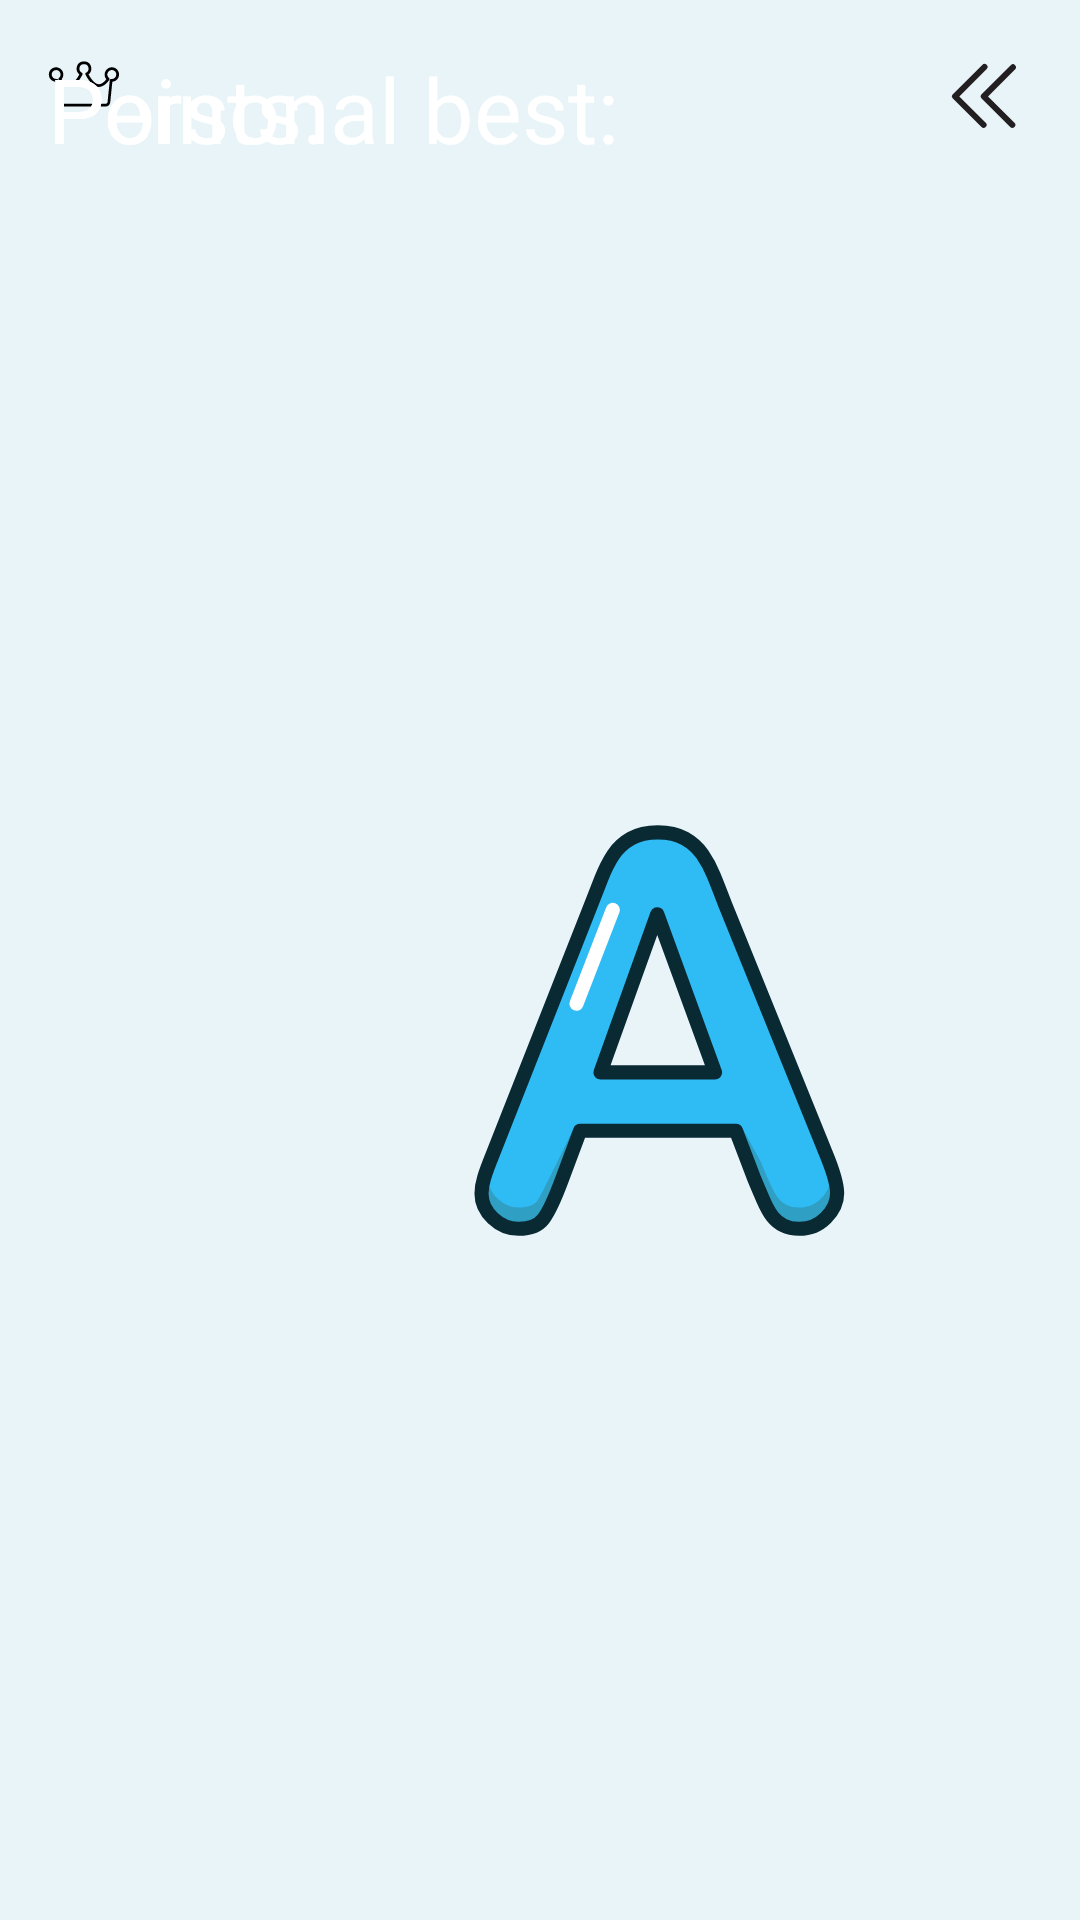

Screen size 1080px x 1920px. Icon name, then its box in pixels as (x1, y1, x2, y2):
back: (951, 63, 1016, 128)
crown: (48, 61, 119, 107)
